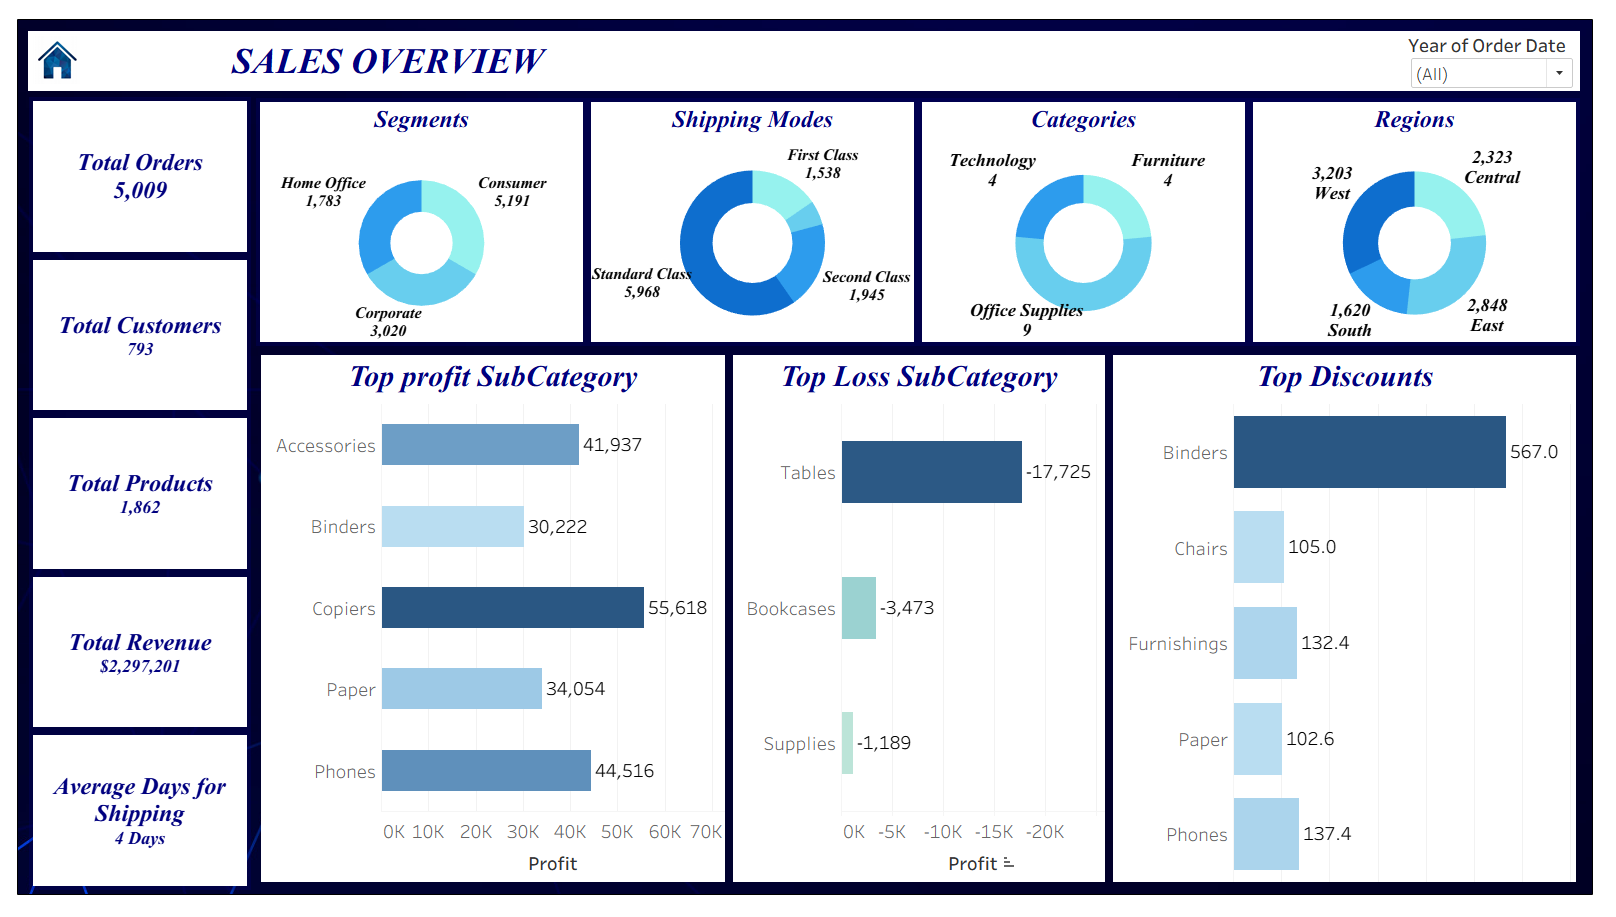

What the dashboard file says about the page in this screenshot:
{"tool":"tableau","page":{"name":"Sales Overview","canvas":[1600,900],"ordinal":1},"visuals":[{"type":"image","param":"C:/Users/vshivani/Desktop/shivani/Tableau/6. superstore sales dataset/images/901","box":[8,8,1584,884]},{"type":"text","box":[19,20,1560,68]},{"type":"filter","title":"Total Orders","param":"[federated.0843jlg0slxx4w1dko3b10s51acw].[yr:Order Date:ok]","box":[1403,25,168,56]},{"type":"dashboard-object","box":[28,27,49,51]},{"type":"worksheet","title":"Total Orders","mark":"Automatic","box":[24,90,222,158.6]},{"type":"worksheet","title":"Segments","mark":"Pie","rows":["Calculation_1574289544919592970","Calculation_1574289544919592970"],"box":[251,91,331,248]},{"type":"worksheet","title":"Shipping Modes","mark":"Pie","rows":["Calculation_1574289544919592970","Calculation_1574289544919592970"],"box":[582,91,331,248]},{"type":"worksheet","title":"Categories","mark":"Pie","rows":["Calculation_1574289544919592970","Calculation_1574289544919592970"],"box":[913,91,331,248]},{"type":"worksheet","title":"Regions","mark":"Pie","rows":["Calculation_1574289544919592970","Calculation_1574289544919592970"],"box":[1244,91,331,248]},{"type":"worksheet","title":"Total Customers","mark":"Automatic","box":[24,248.6,222,158.6]},{"type":"worksheet","title":"Top profit SubCategory","mark":"Bar","rows":["Sub-Category"],"cols":["Profit"],"box":[252,344,471.5,535]},{"type":"worksheet","title":"Top Loss SubCategory","mark":"Bar","rows":["Sub-Category"],"cols":["Profit"],"box":[723.5,344,380,535]},{"type":"worksheet","title":"Top Discounts","mark":"Automatic","rows":["Sub-Category"],"cols":["Discount"],"box":[1103.5,344,471.5,535]},{"type":"worksheet","title":"Total Products","mark":"Automatic","box":[24,407.2,222,158.6]},{"type":"worksheet","title":"Total Revenue","mark":"Automatic","box":[24,565.8,222,158.6]},{"type":"worksheet","title":"Avg Shipping Days","mark":"Automatic","box":[24,724.4,222,158.6]}]}

Visuals, with their boxes in screenshot pixels (x1, y1, x2, y2), scaled from the page's 1600x900 canvas onto the 1616x917 screenshot:
image: (x1=8, y1=8, x2=1608, y2=909)
text: (x1=19, y1=20, x2=1595, y2=90)
"Total Orders" filter: (x1=1417, y1=25, x2=1587, y2=83)
dashboard-object: (x1=28, y1=28, x2=78, y2=79)
"Total Orders" worksheet: (x1=24, y1=92, x2=248, y2=253)
"Segments" worksheet (Pie marks): (x1=254, y1=93, x2=588, y2=345)
"Shipping Modes" worksheet (Pie marks): (x1=588, y1=93, x2=922, y2=345)
"Categories" worksheet (Pie marks): (x1=922, y1=93, x2=1256, y2=345)
"Regions" worksheet (Pie marks): (x1=1256, y1=93, x2=1591, y2=345)
"Total Customers" worksheet: (x1=24, y1=253, x2=248, y2=415)
"Top profit SubCategory" worksheet (Bar marks): (x1=255, y1=350, x2=731, y2=896)
"Top Loss SubCategory" worksheet (Bar marks): (x1=731, y1=350, x2=1115, y2=896)
"Top Discounts" worksheet: (x1=1115, y1=350, x2=1591, y2=896)
"Total Products" worksheet: (x1=24, y1=415, x2=248, y2=576)
"Total Revenue" worksheet: (x1=24, y1=576, x2=248, y2=738)
"Avg Shipping Days" worksheet: (x1=24, y1=738, x2=248, y2=900)
